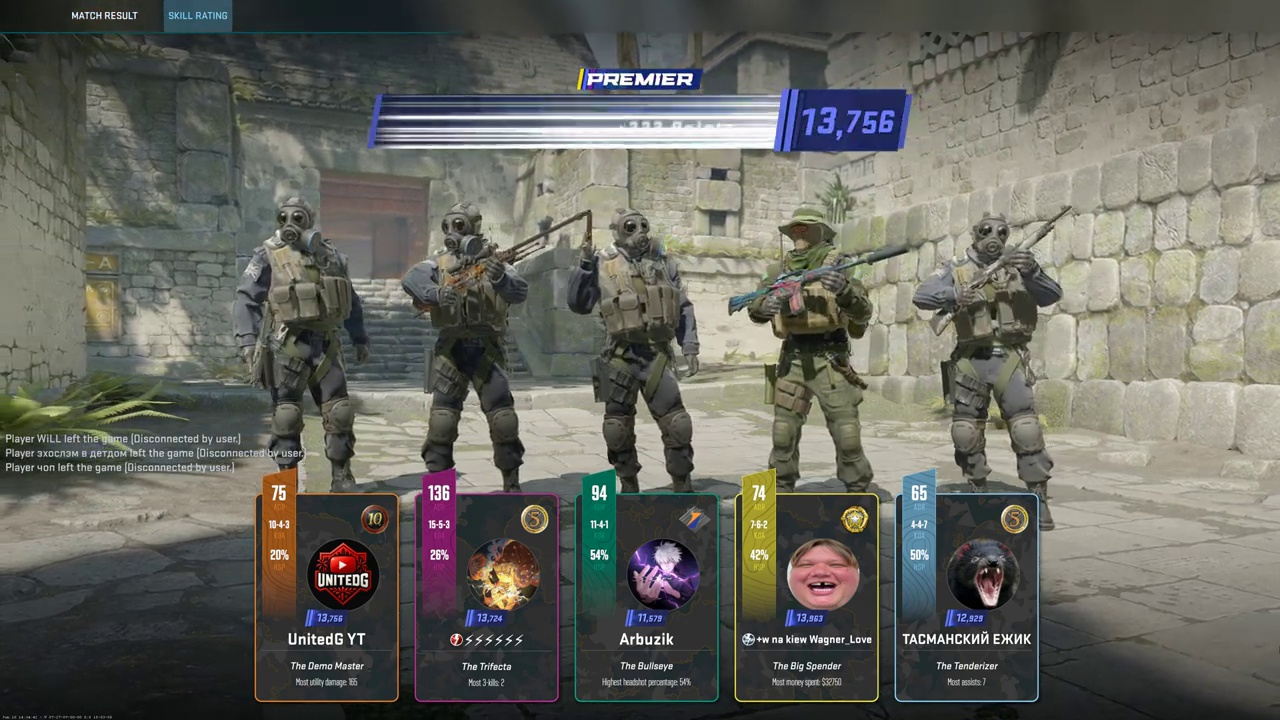CT: (939, 219, 1046, 523), (420, 202, 528, 495), (580, 210, 688, 503), (260, 201, 368, 493), (759, 208, 869, 490)
